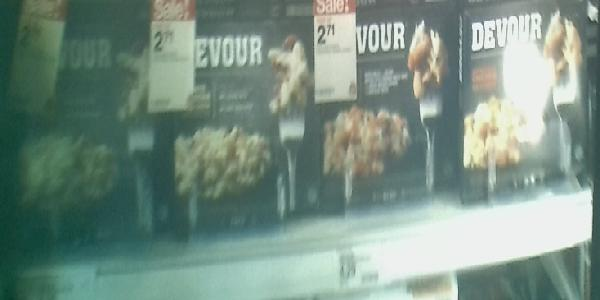pizza1: (150, 20, 320, 226), (1, 17, 151, 233), (318, 3, 460, 210), (465, 1, 590, 210)
